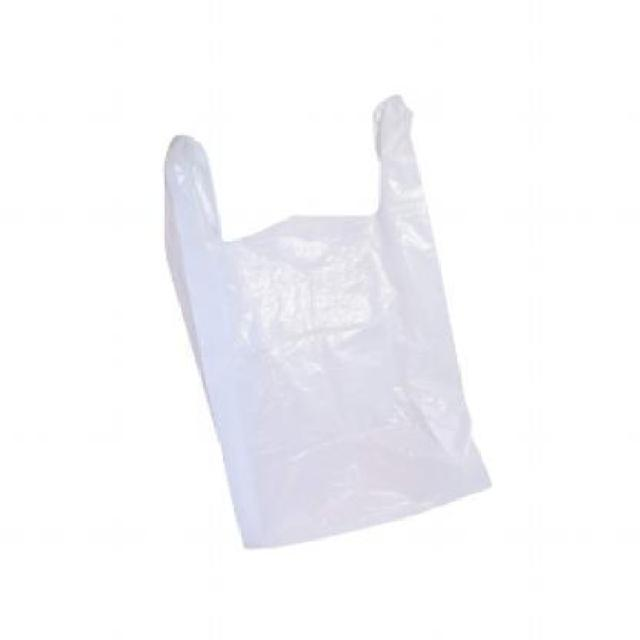plastic bag: (158, 92, 500, 552)
